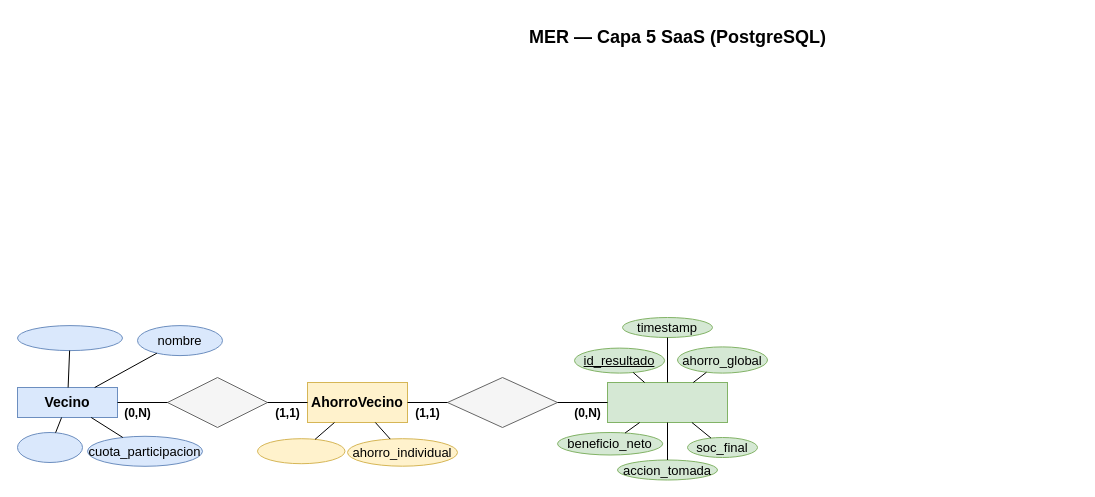
Image size: 1095x497. Some labels were removed from this diagram. Here are the shapes that lost their labels. From the top down, the box of each, then its label:
(16, 325, 122, 351): id_vecino
(166, 376, 268, 428): tiene
(446, 376, 558, 428): genera
(606, 382, 728, 422): ResultadoGlobal
(16, 432, 82, 462): rol
(256, 438, 345, 464): id_ahorro
